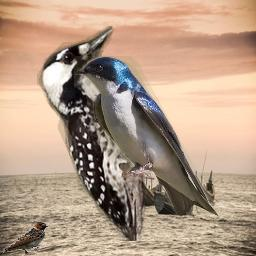Swallow: (74, 56, 221, 219), (2, 221, 49, 255)
Woodpecker: (37, 26, 145, 241)
